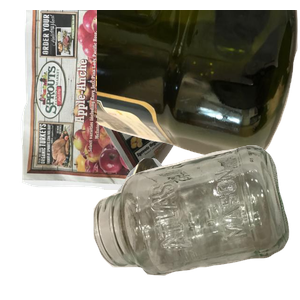glass: (91, 143, 300, 300)
paper: (18, 10, 258, 190)
plastic: (97, 10, 300, 165)
trash: (99, 155, 268, 300)
